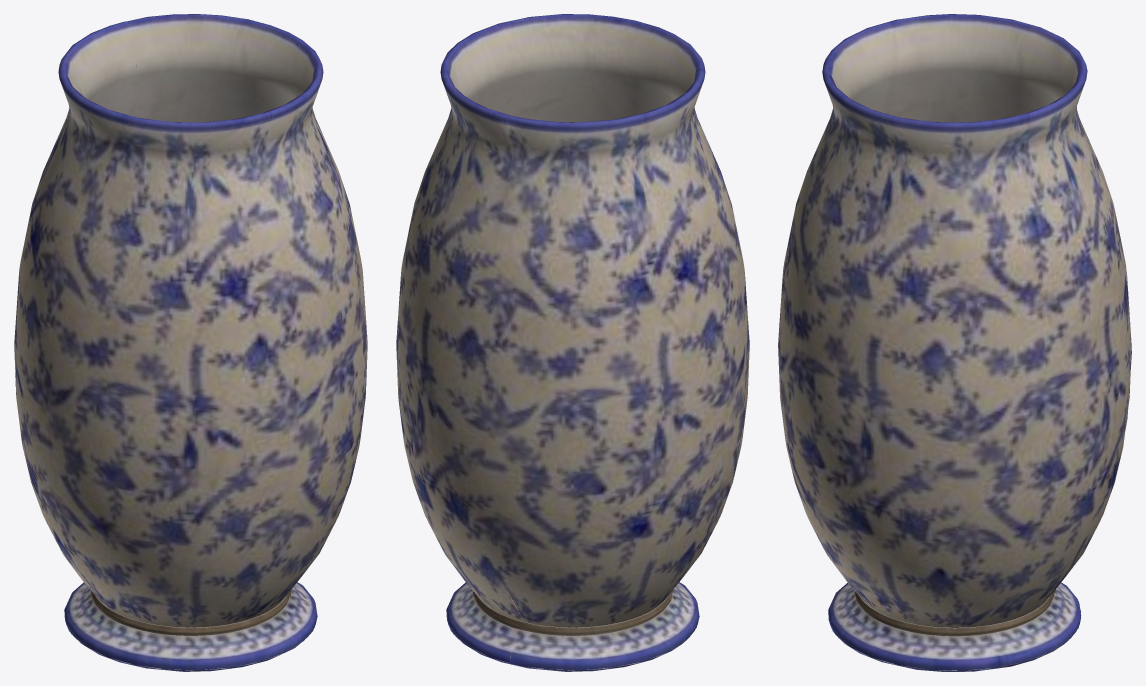
Rendered from ph_antique_ceramic_vase_01.glb.
3 views of the same model, side by side, from view 1: azimuth 30°, elevation 25°; view 2: azimuth 150°, elevation 25°; view 3: azimuth 270°, elevation 25° (orthographic).
Parts seen in each view (by area): view 1: antique_ceramic_vase_01; view 2: antique_ceramic_vase_01; view 3: antique_ceramic_vase_01.
Part boxes in pixels (left/top/right/bottom): antique_ceramic_vase_01: left=14, top=14, right=367, bottom=671; antique_ceramic_vase_01: left=396, top=14, right=749, bottom=671; antique_ceramic_vase_01: left=778, top=14, right=1131, bottom=671.
Bounding box in the file's own units: 0.2554 × 0.4397 × 0.2556.
1 material, 1 textured.
